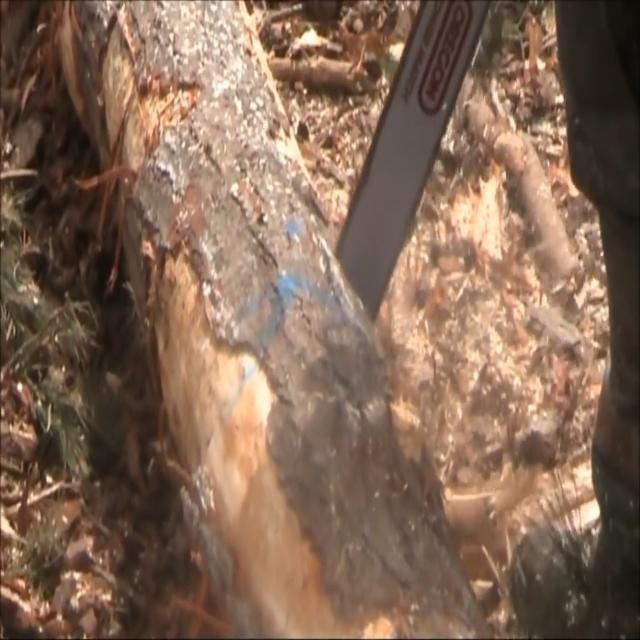Chainsaw: (328, 0, 504, 329)
